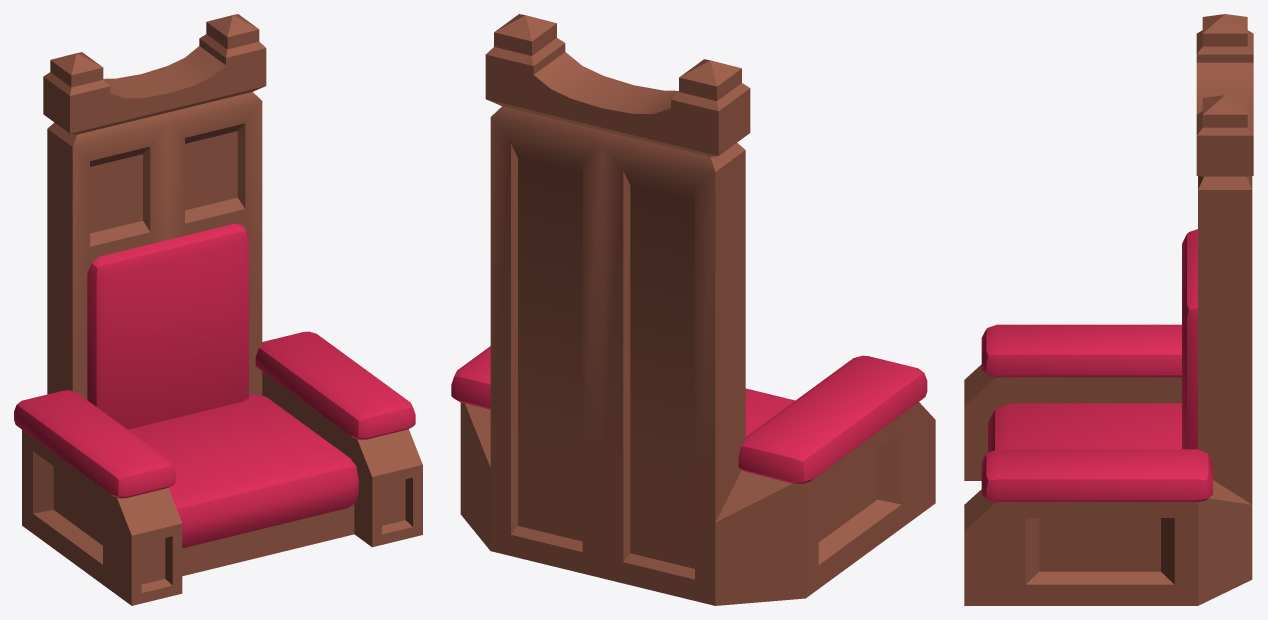
Rendered from throne.gltf.glb.
The picture shows the model from 3 angles, left to right: view 1: azimuth 30°, elevation 25°; view 2: azimuth 150°, elevation 25°; view 3: azimuth 270°, elevation 25°; orthographic projection. The views are drawn at different scales.
Visible parts, largest first — view 1: throne; view 2: throne; view 3: throne.
Boxes of the visible parts, box(x1,y1,x2,y2) form: throne: box(14, 14, 422, 605); throne: box(451, 14, 935, 605); throne: box(964, 14, 1253, 605).
Size of the model in its own units: 1.69 by 2.38 by 1.31.
